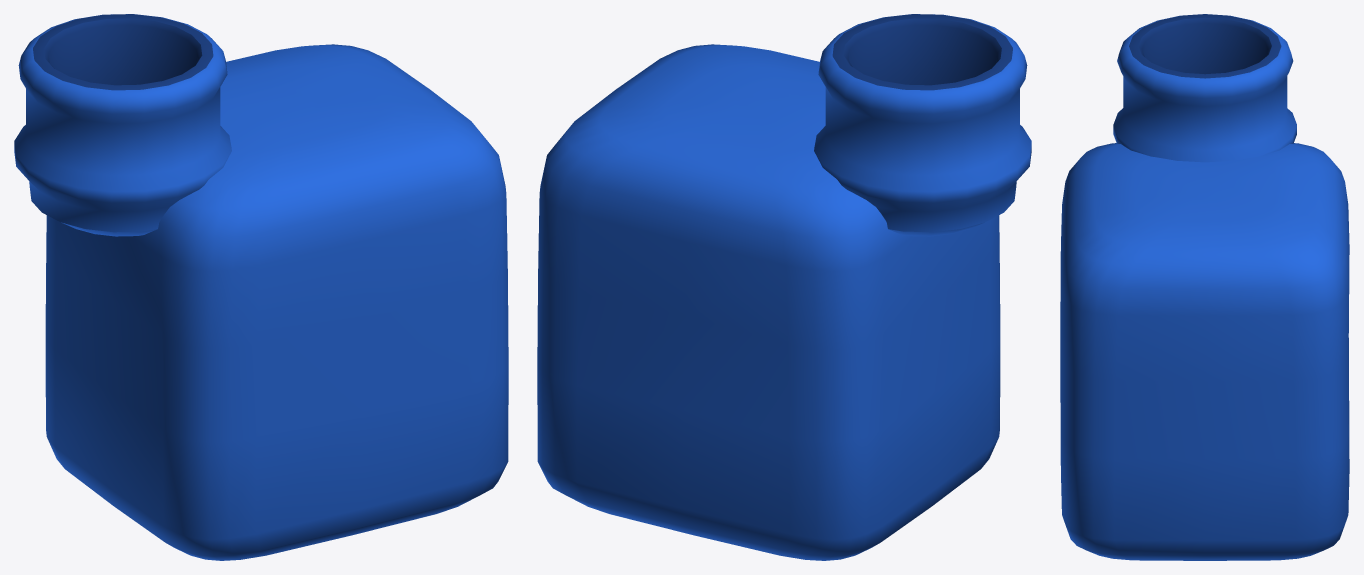
The model's file is Bottle_Body.fbx.
The picture shows the model from 3 angles, left to right: view 1: azimuth 30°, elevation 25°; view 2: azimuth 150°, elevation 25°; view 3: azimuth 270°, elevation 25°; orthographic projection. The views are drawn at different scales.
Parts seen in each view (by area): view 1: Bottle_Body; view 2: Bottle_Body; view 3: Bottle_Body.
Part boxes in pixels (x1=…): Bottle_Body: x1=14, y1=14, x2=508, y2=560; Bottle_Body: x1=537, y1=14, x2=1031, y2=560; Bottle_Body: x1=1060, y1=14, x2=1349, y2=560.
Size of the model in its own units: 1.24 by 1.34 by 0.8813.
